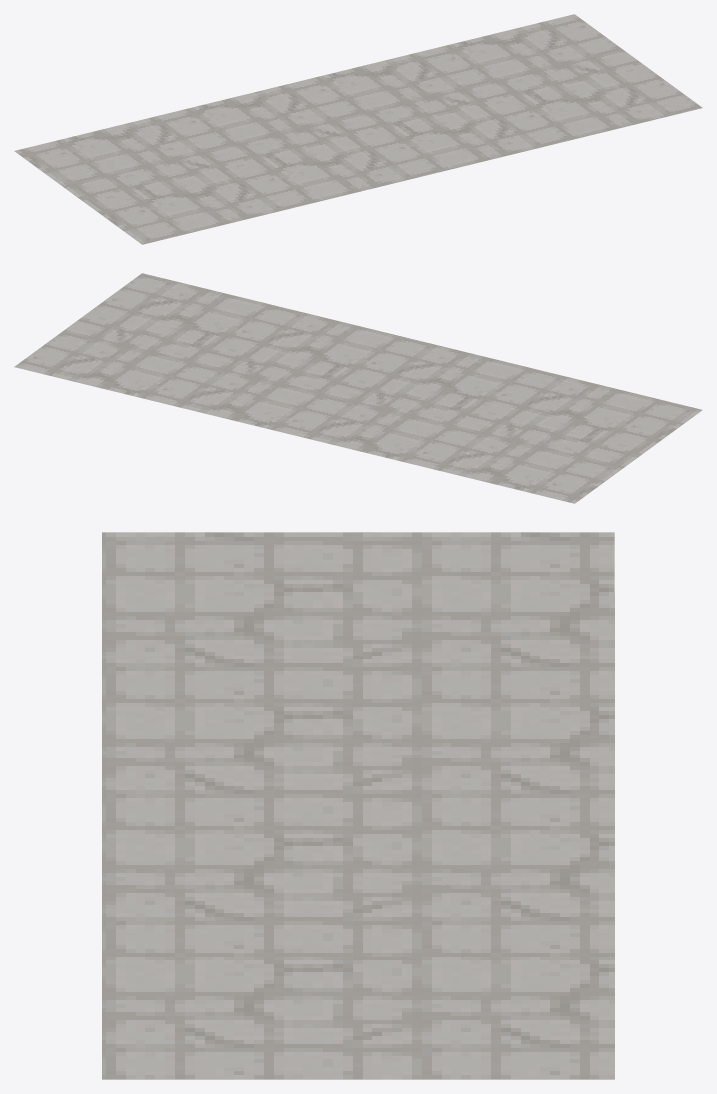
File: kd_stage_1366d7_0_12.glb
The picture shows the model from 3 angles, top to bottom: view 1: azimuth 30°, elevation 25°; view 2: azimuth 150°, elevation 25°; view 3: azimuth 270°, elevation 25°; orthographic projection. The views are drawn at different scales.
Parts seen in each view (by area): view 1: kd_stage_1366d7_0_12; view 2: kd_stage_1366d7_0_12; view 3: kd_stage_1366d7_0_12.
Part boxes in pixels (box(x1,y1,x2,y2)): kd_stage_1366d7_0_12: box(14, 14, 702, 244); kd_stage_1366d7_0_12: box(14, 273, 702, 503); kd_stage_1366d7_0_12: box(102, 532, 614, 1079).
Size of the model in its own units: 3.94 by 5.96e-07 by 1.56.
Materials: 1 (1 with a texture image).
